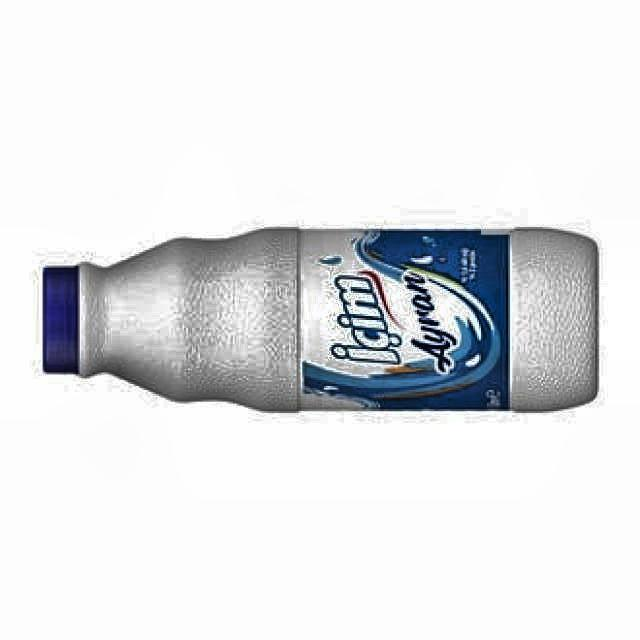plastic: (44, 229, 598, 411)
